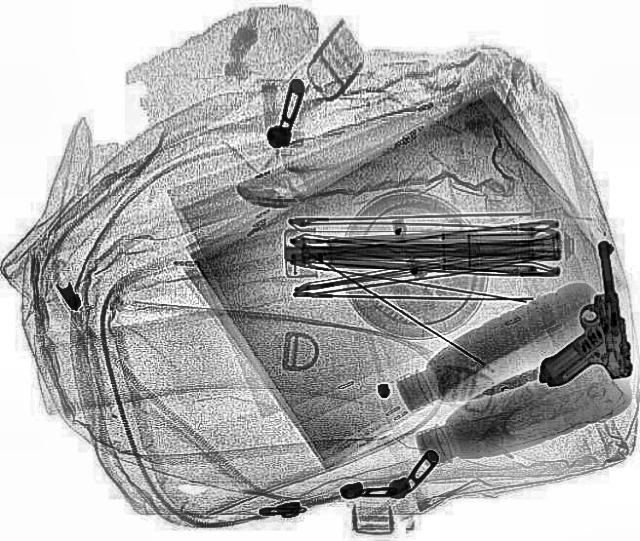Gun: (519, 238, 635, 388)
